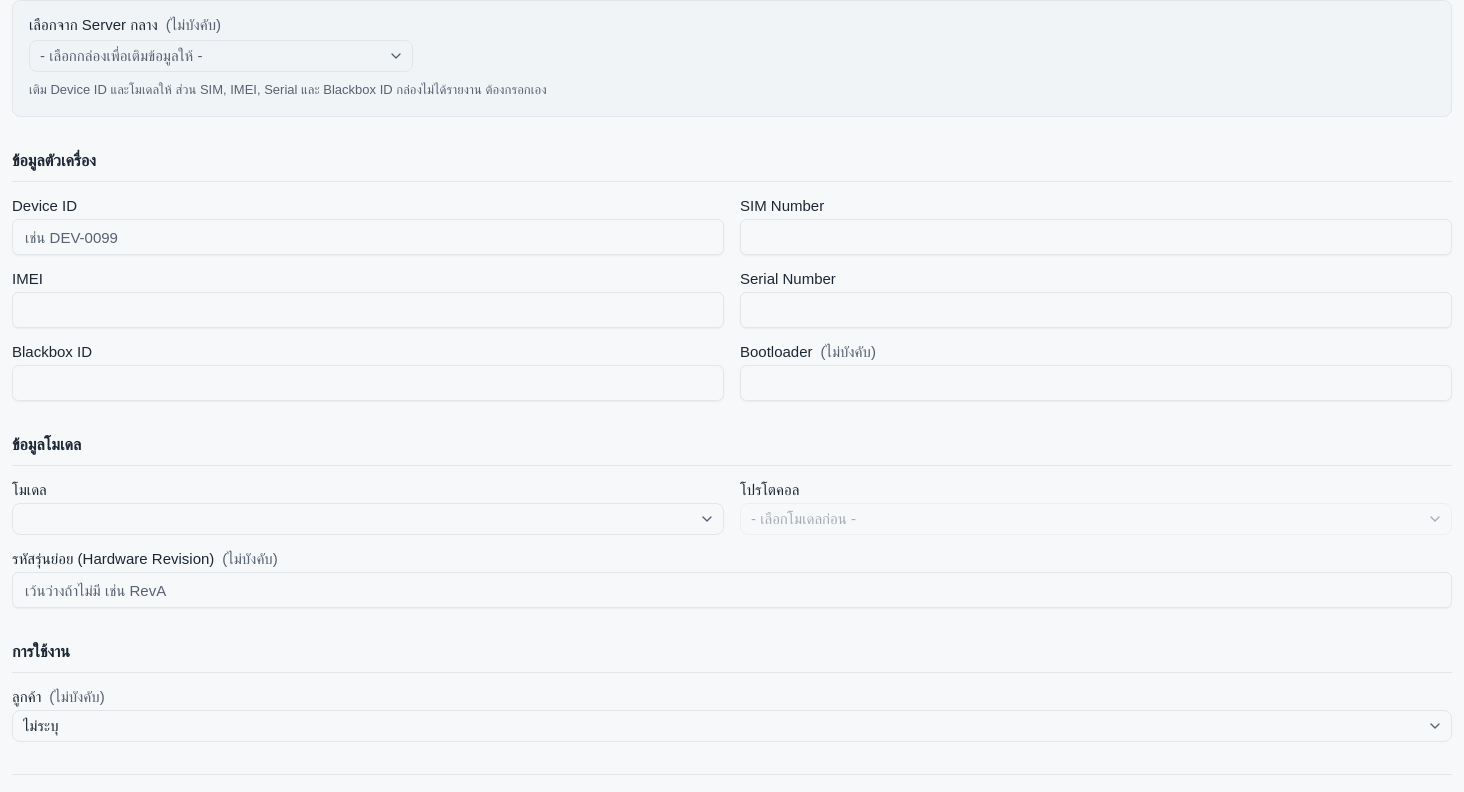
Test: RegisterDeviceForm: IMEI / Serial Number / Blackbox ID บังคับกรอก › เลือกจาก Server กลาง › ไม่เสนอกล่องที่ลงทะเบียนในระบบเราไปแล้ว
Click the dropdown named "เลือกจาก Server กลาง".
click(121, 56)  # box [29,40,413,72]
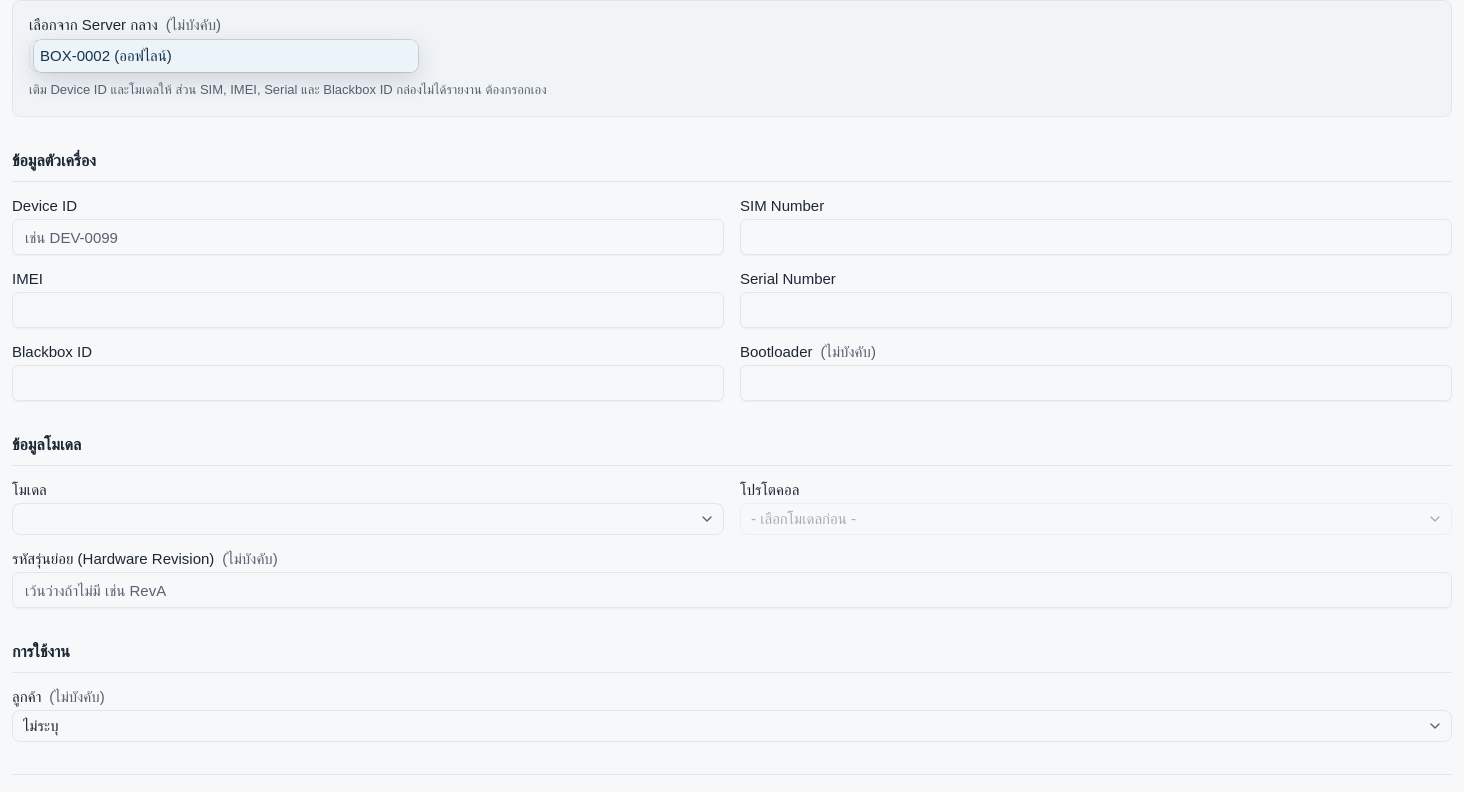
expect the option "BOX-0002 (ออฟไลน์)" is shown: met, box [34,40,418,72]
